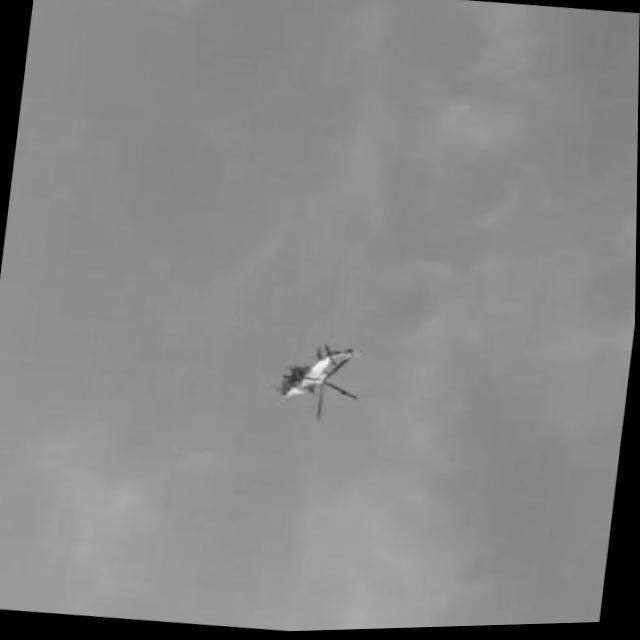helikopter: (272, 339, 365, 428)
